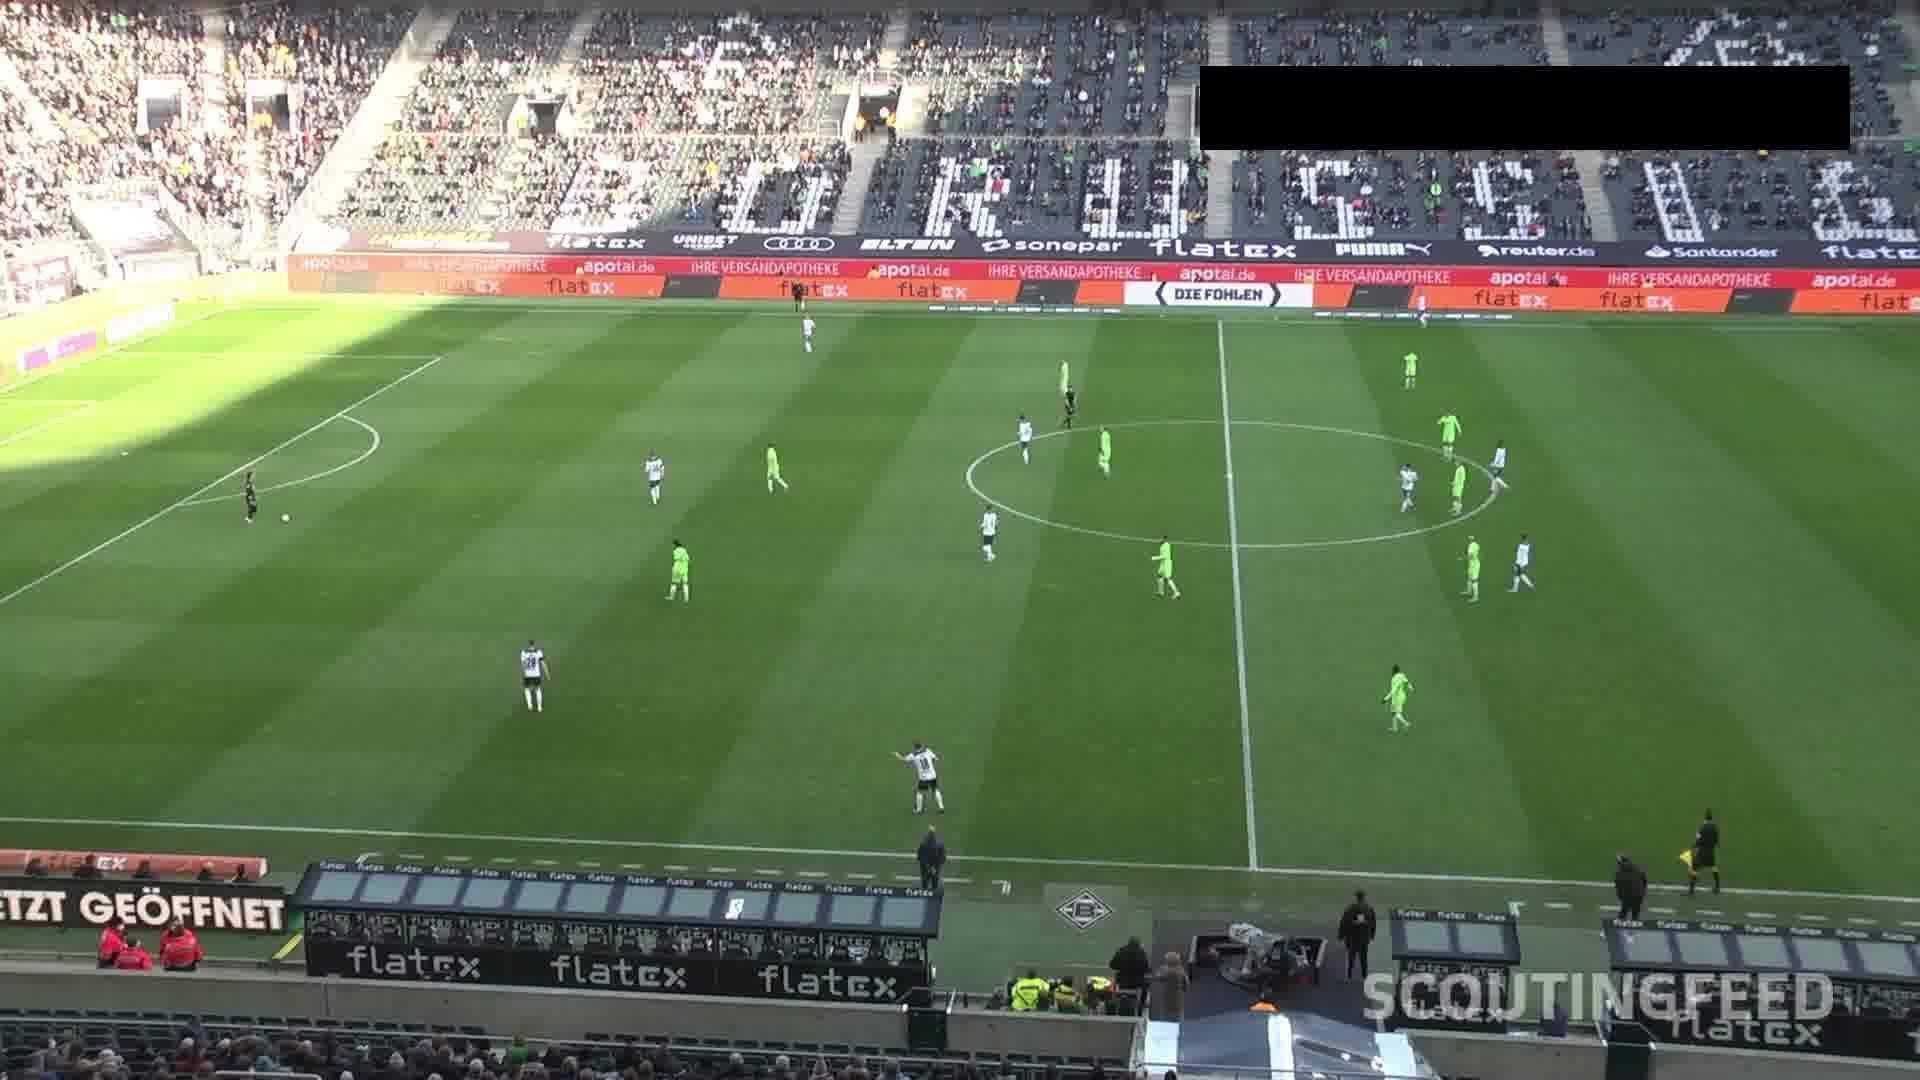football: (280, 512, 290, 524)
